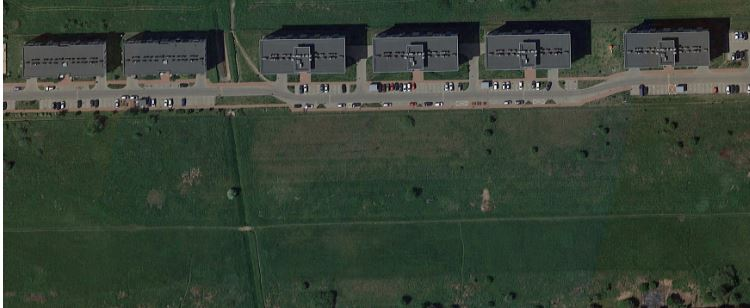block of flats: (19, 37, 109, 80), (117, 35, 207, 78), (258, 33, 348, 76), (371, 29, 461, 72), (482, 29, 572, 72), (622, 26, 712, 69)
